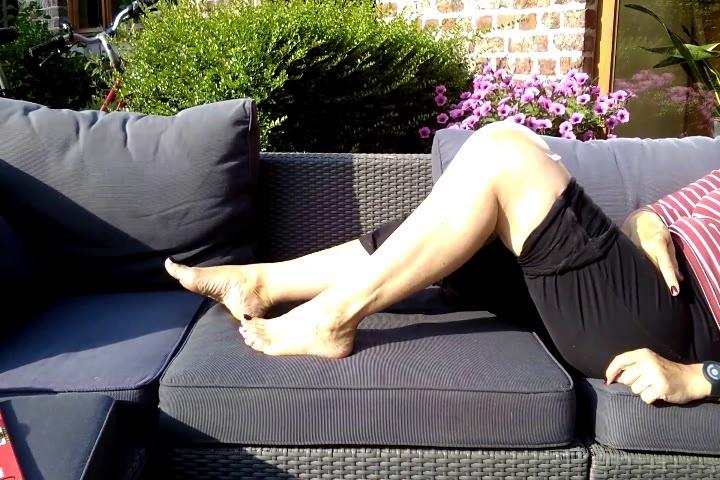lower_body: (153, 112, 705, 398)
